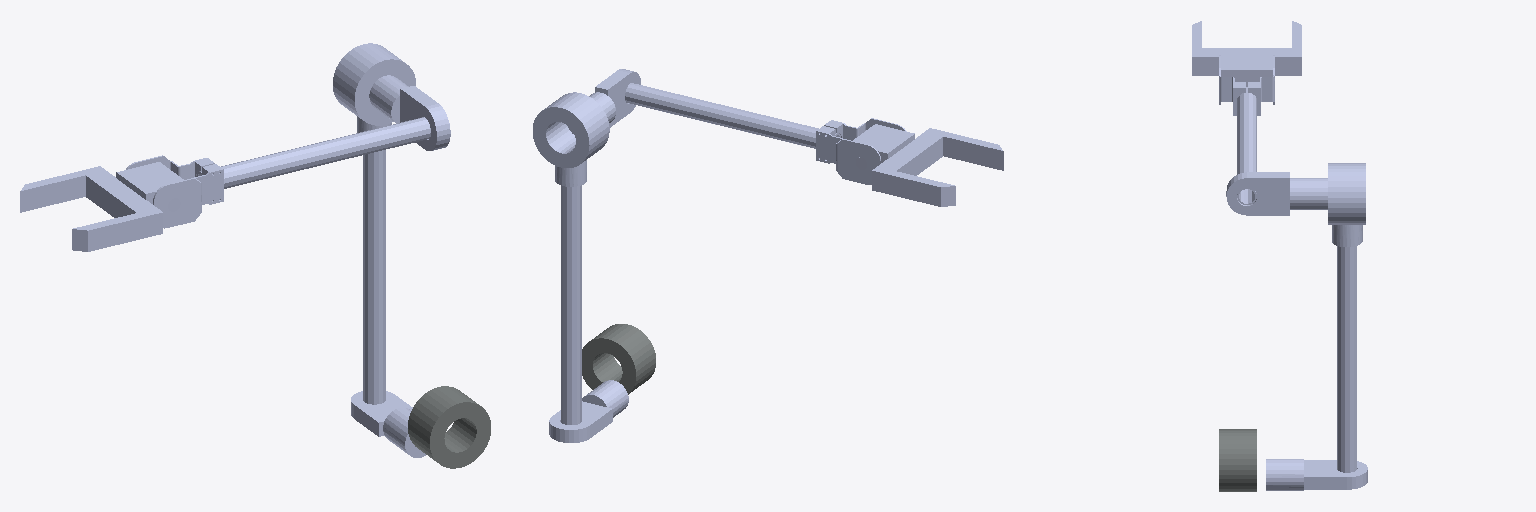
URDF robot description (arm2_urdf):
<?xml version="1.0" encoding="utf-8"?>
<!-- This URDF was automatically created by SolidWorks to URDF Exporter! Originally created by [author] ([email redacted]) 
     Commit Version: 1.6.0-4-g7f85cfe  Build Version: 1.6.7995.38578
     For more information, please see http://wiki.ros.org/sw_urdf_exporter -->
<robot
  name="arm2_urdf">
  <link
    name="base_link">
    <inertial>
      <origin
        xyz="2.53269627492614E-16 0.0351875 -1.11022302462516E-16"
        rpy="0 0 0" />
      <mass
        value="4.15068574213693" />
      <inertia
        ixx="0.00607844500433802"
        ixy="1.85209295977699E-17"
        ixz="-6.46688986627396E-32"
        iyy="0.00873074753732344"
        iyz="-9.26046479888497E-18"
        izz="0.00607844500433802" />
    </inertial>
    <visual>
      <origin
        xyz="0 0 0"
        rpy="0 0 0" />
      <geometry>
        <mesh
          filename="package://arm_ik/meshes/base_link.STL" />
      </geometry>
      <material
        name="">
        <color
          rgba="0.529411764705882 0.549019607843137 0.549019607843137 1" />
      </material>
    </visual>
    <collision>
      <origin
        xyz="0 0 0"
        rpy="0 0 0" />
      <geometry>
        <mesh
          filename="package://arm_ik/meshes/base_link.STL" />
      </geometry>
    </collision>
  </link>
  <link
    name="link_1">
    <inertial>
      <origin
        xyz="2.16093430649433E-09 0.143596276041462 0.505239789070312"
        rpy="0 0 0" />
      <mass
        value="5.22444424208244" />
      <inertia
        ixx="0.0134223705688452"
        ixy="5.39843983522087E-09"
        ixz="1.79032049981247E-09"
        iyy="0.0151077189421573"
        iyz="-2.76690494655853E-17"
        izz="0.00769097362687298" />
    </inertial>
    <visual>
      <origin
        xyz="0 0 0"
        rpy="0 0 0" />
      <geometry>
        <mesh
          filename="package://arm_ik/meshes/link_1.STL" />
      </geometry>
      <material
        name="">
        <color
          rgba="0.796078431372549 0.823529411764706 0.937254901960784 1" />
      </material>
    </visual>
    <collision>
      <origin
        xyz="0 0 0"
        rpy="0 0 0" />
      <geometry>
        <mesh
          filename="package://arm_ik/meshes/link_1.STL" />
      </geometry>
    </collision>
  </link>
  <joint
    name="joint_1"
    type="revolute">
    <origin
      xyz="0 0 0"
      rpy="0 0 0" />
    <parent
      link="base_link" />
    <child
      link="link_1" />
    <axis
      xyz="0 1 0" />
    <limit
      lower="-1.5707"
      upper="1.5707"
      effort="63"
      velocity="10" />
  </joint>
  <link
    name="link_2">
    <inertial>
      <origin
        xyz="-0.161466721516512 -0.110140432452362 0"
        rpy="0 0 0" />
      <mass
        value="0.811667223175114" />
      <inertia
        ixx="0.00144112638133478"
        ixy="1.22711446997755E-17"
        ixz="3.80344155172408E-19"
        iyy="0.00319599814657966"
        iyz="3.99584744049083E-18"
        izz="0.00411565499360313" />
    </inertial>
    <visual>
      <origin
        xyz="0 0 0"
        rpy="0 0 0" />
      <geometry>
        <mesh
          filename="package://arm_ik/meshes/link_2.STL" />
      </geometry>
      <material
        name="">
        <color
          rgba="0.796078431372549 0.823529411764706 0.937254901960784 1" />
      </material>
    </visual>
    <collision>
      <origin
        xyz="0 0 0"
        rpy="0 0 0" />
      <geometry>
        <mesh
          filename="package://arm_ik/meshes/link_2.STL" />
      </geometry>
    </collision>
  </link>
  <joint
    name="joint_2"
    type="revolute">
    <origin
      xyz="0 0.11456 0.5716"
      rpy="0 0 0" />
    <parent
      link="link_1" />
    <child
      link="link_2" />
    <axis
      xyz="0 1 0" />
    <limit
      lower="-1.5707"
      upper="6.2802"
      effort="30"
      velocity="10" />
  </joint>
  <link
    name="link_3">
    <inertial>
      <origin
        xyz="-1.11022302462516E-16 -0.00935030615849541 4.30211422042248E-16"
        rpy="0 0 0" />
      <mass
        value="0.441934179484334" />
      <inertia
        ixx="0.000580602286707566"
        ixy="8.27474321642412E-20"
        ixz="-3.55034402418239E-20"
        iyy="0.000491950663175556"
        iyz="2.015497179801E-19"
        izz="0.000361938719156181" />
    </inertial>
    <visual>
      <origin
        xyz="0 0 0"
        rpy="0 0 0" />
      <geometry>
        <mesh
          filename="package://arm_ik/meshes/link_3.STL" />
      </geometry>
      <material
        name="">
        <color
          rgba="0.792156862745098 0.819607843137255 0.933333333333333 1" />
      </material>
    </visual>
    <collision>
      <origin
        xyz="0 0 0"
        rpy="0 0 0" />
      <geometry>
        <mesh
          filename="package://arm_ik/meshes/link_3.STL" />
      </geometry>
    </collision>
  </link>
  <joint
    name="joint_3"
    type="revolute">
    <origin
      xyz="-0.50776 -0.14975 0"
      rpy="3.1416 -1.5708 1.5708" />
    <parent
      link="link_2" />
    <child
      link="link_3" />
    <axis
      xyz="0 0 1" />
    <limit
      lower="-1.5707"
      upper="1.5707"
      effort="24"
      velocity="3" />
  </joint>
  <link
    name="link_4">
    <inertial>
      <origin
        xyz="-2.22044604925031E-16 -0.0546473622653039 4.68375338513738E-16"
        rpy="0 0 0" />
      <mass
        value="0.475602149431558" />
      <inertia
        ixx="0.00323678199641303"
        ixy="-2.84626520739531E-18"
        ixz="2.21989723642492E-18"
        iyy="0.00243855886718496"
        iyz="5.8391116076532E-19"
        izz="0.000910817645576703" />
    </inertial>
    <visual>
      <origin
        xyz="0 0 0"
        rpy="0 0 0" />
      <geometry>
        <mesh
          filename="package://arm_ik/meshes/link_4.STL" />
      </geometry>
      <material
        name="">
        <color
          rgba="0.792156862745098 0.819607843137255 0.933333333333333 1" />
      </material>
    </visual>
    <collision>
      <origin
        xyz="0 0 0"
        rpy="0 0 0" />
      <geometry>
        <mesh
          filename="package://arm_ik/meshes/link_4.STL" />
      </geometry>
    </collision>
  </link>
  <joint
    name="joint_4"
    type="revolute">
    <origin
      xyz="0 -0.0381 0"
      rpy="0 0 0" />
    <parent
      link="link_3" />
    <child
      link="link_4" />
    <axis
      xyz="0 -1 0" />
    <limit
      lower="-3.14"
      upper="3.14"
      effort="0"
      velocity="0" />
  </joint>
</robot>

--- Facts derived from the render (not from the file) ---
The picture shows the robot from 3 angles, left to right: view 1: azimuth 30°, elevation 25°; view 2: azimuth 150°, elevation 25°; view 3: azimuth 270°, elevation 25°; orthographic projection.
Model arm2_urdf with 5 links and 4 joints (4 revolute), rooted at base_link, posed every joint at zero.
Links seen in each view (by area): view 1: link_1, link_2, link_4, base_link, link_3; view 2: link_1, link_2, link_4, base_link, link_3; view 3: link_1, link_2, base_link, link_4, link_3.
Boxes of the visible links, x1,y1,x2,y2 form: link_1: (333,43,425,457); link_2: (126,75,450,228); link_4: (20,166,162,251); base_link: (408,386,490,468); link_3: (116,162,183,211); link_1: (533,92,628,442); link_2: (567,69,906,184); link_4: (872,128,1003,206); base_link: (582,324,655,394); link_3: (853,124,914,169); link_1: (1266,163,1367,490); link_2: (1219,55,1327,215); base_link: (1219,429,1256,491); link_4: (1192,21,1301,75); link_3: (1221,51,1272,86).
Size in the robot's own frame: 0.7965 by 0.3246 by 0.659 metres.
Meshes: 5 distinct files referenced, 5 mesh visuals loaded (5 binary STL).